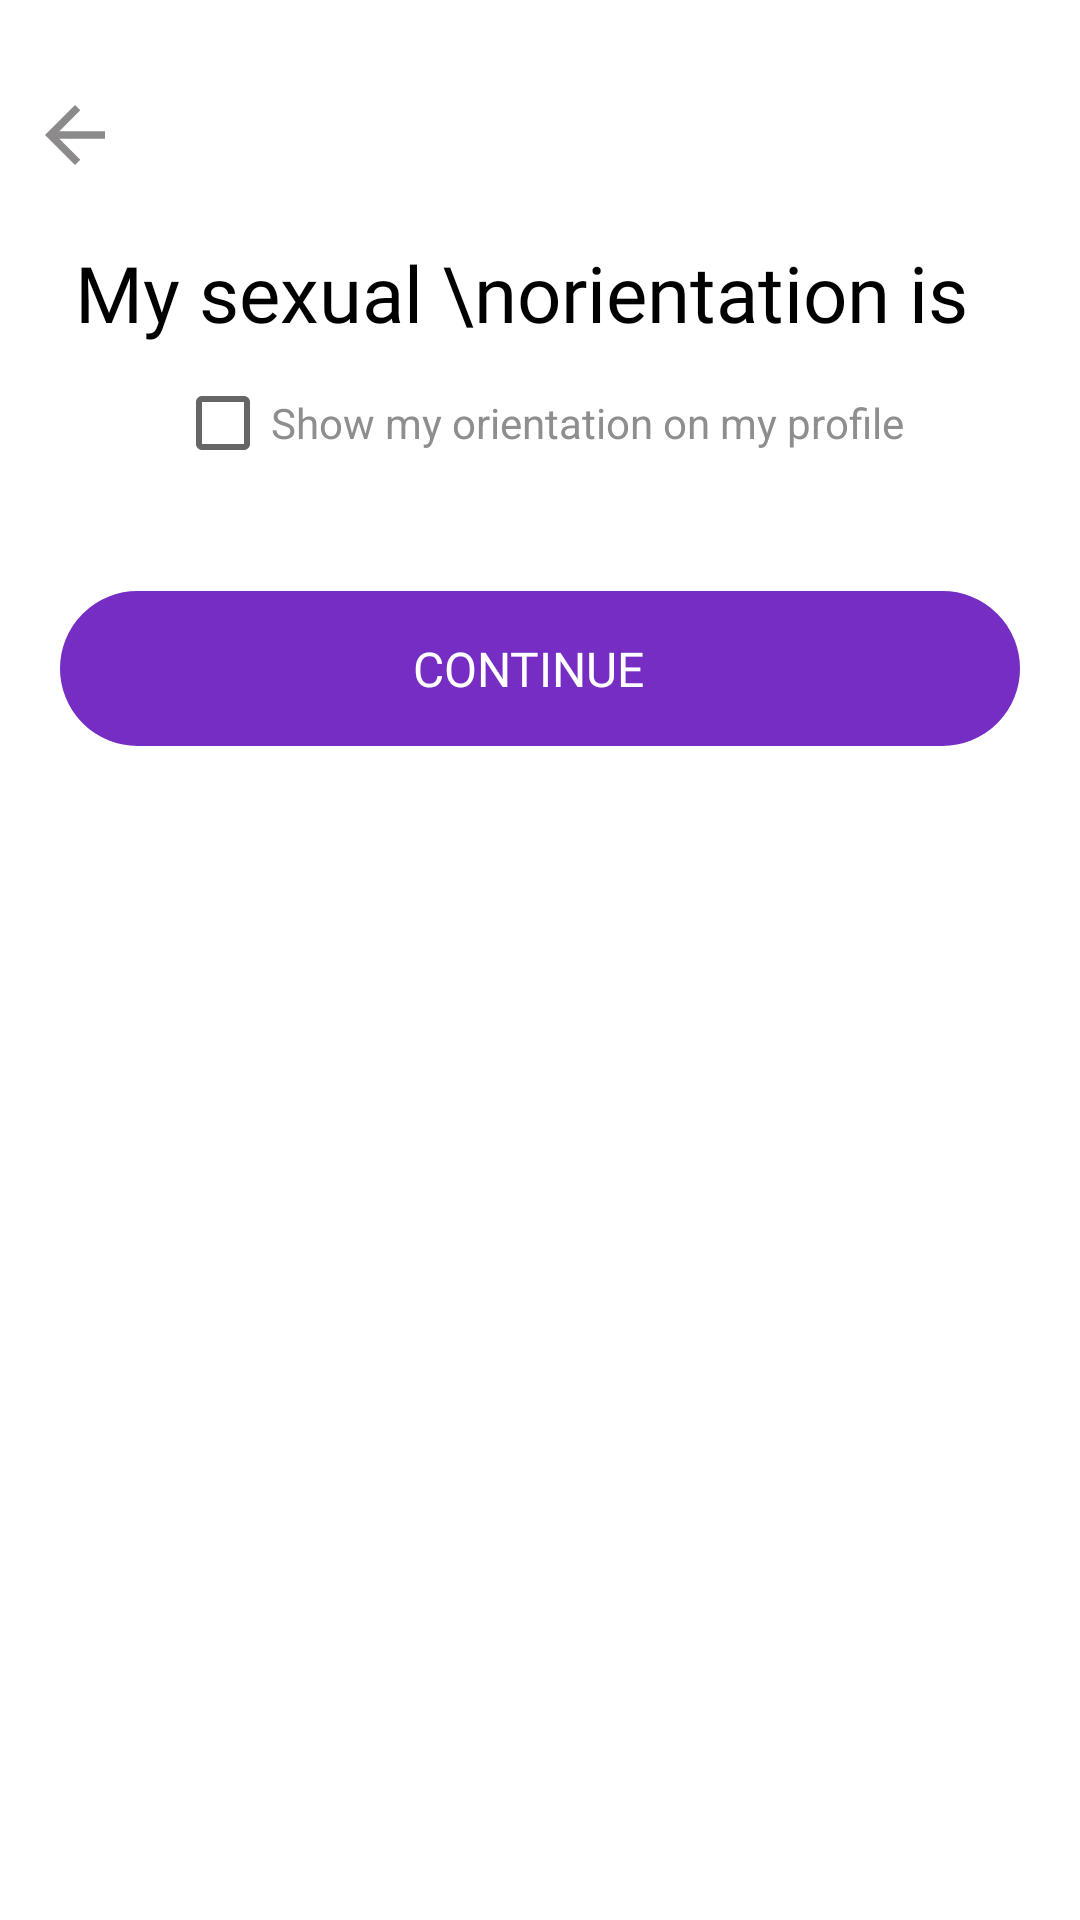

Point at icon controls on the screen. Image size 1080w x 1920h, points as (x,y).
arrow back: (75,135)
